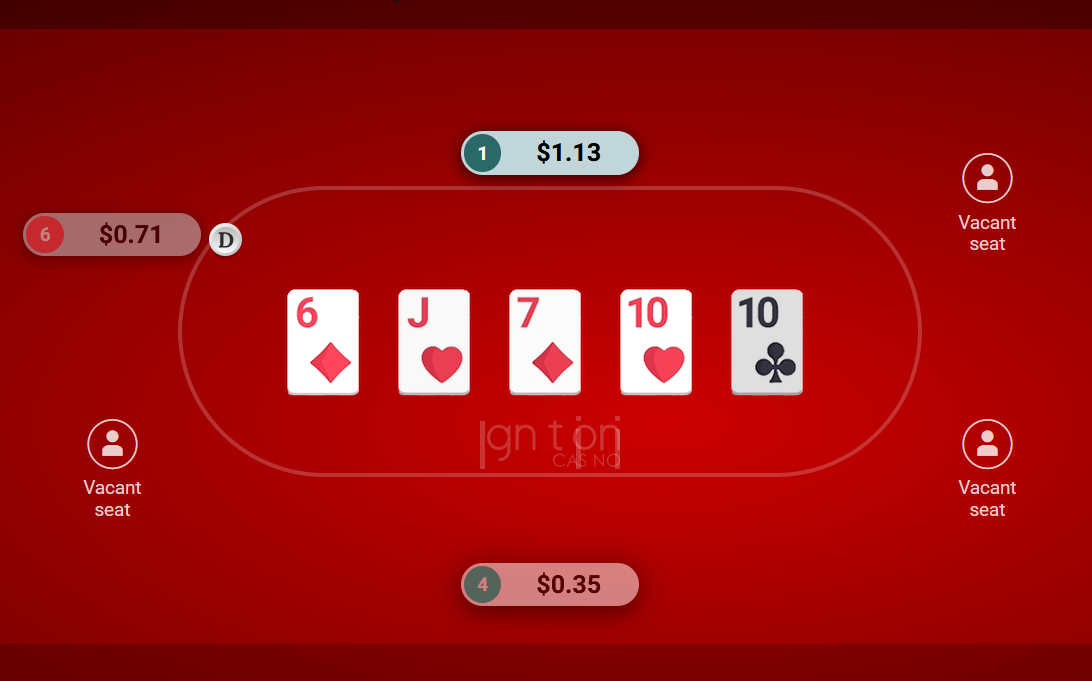10C: (727, 285, 808, 396)
10H: (616, 285, 697, 396)
6D: (283, 285, 364, 396)
7D: (505, 285, 586, 396)
JH: (394, 285, 475, 396)
